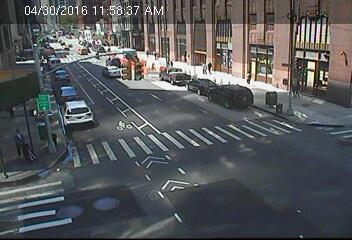neg: (106, 151, 136, 192), (249, 160, 277, 198), (108, 41, 134, 76), (108, 110, 133, 144), (263, 93, 288, 126), (302, 142, 326, 175), (325, 44, 349, 76), (151, 111, 173, 142), (294, 42, 316, 71), (45, 55, 66, 83), (43, 111, 64, 138), (206, 130, 226, 158), (164, 56, 183, 81), (161, 174, 180, 198), (262, 18, 280, 42), (202, 181, 219, 203), (221, 90, 235, 109)
pos: (6, 124, 31, 157), (289, 76, 306, 99), (206, 58, 217, 73), (198, 60, 209, 75), (244, 70, 253, 82)
